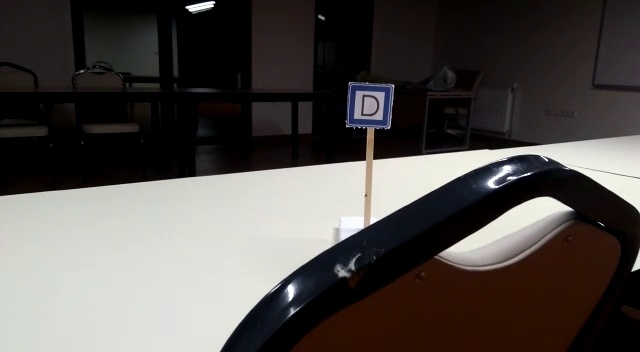durak: (346, 82, 394, 128)
